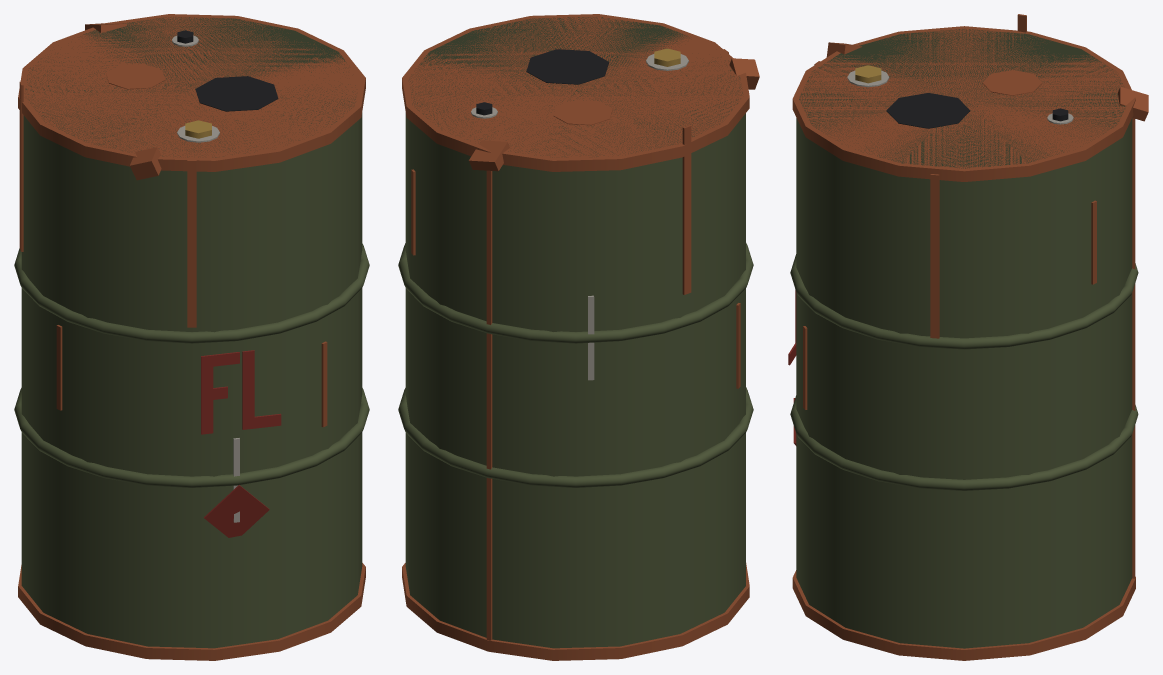
The model's file is 55-gallon-steel-fuel.glb.
The picture shows the model from 3 angles, left to right: view 1: azimuth 30°, elevation 25°; view 2: azimuth 150°, elevation 25°; view 3: azimuth 270°, elevation 25°; orthographic projection. The views are drawn at different scales.
Visible parts, largest first — view 1: Mesh_Body, Mesh_ChimeTop, Mesh_LidTop, Mesh_ChimeBottom, Mesh_Rib1, Mesh_Rib2, Mesh_GrimeStain, Mesh_HazardDiamond, Mesh_Streak1, Mesh_RustStain, Mesh_StencilL_Vert, Mesh_StencilF_Vert (+4 smaller); view 2: Mesh_Body, Mesh_ChimeTop, Mesh_LidTop, Mesh_ChimeBottom, Mesh_Rib1, Mesh_Rib2, Mesh_WeldedSeam, Mesh_GrimeStain, Mesh_Streak2, Mesh_RustStain, Mesh_RimDent2, Mesh_RimDent1 (+1 smaller); view 3: Mesh_Body, Mesh_ChimeTop, Mesh_LidTop, Mesh_ChimeBottom, Mesh_Rib1, Mesh_Rib2, Mesh_GrimeStain, Mesh_WeldedSeam, Mesh_Streak4, Mesh_RustStain, Mesh_RimDent2.
Part boxes in pixels (x1=…): Mesh_Body: x1=21, y1=113, x2=362, y2=648; Mesh_ChimeTop: x1=18, y1=14, x2=365, y2=171; Mesh_LidTop: x1=25, y1=17, x2=355, y2=157; Mesh_ChimeBottom: x1=18, y1=563, x2=365, y2=660; Mesh_Rib1: x1=14, y1=388, x2=369, y2=487; Mesh_Rib2: x1=14, y1=243, x2=369, y2=343; Mesh_GrimeStain: x1=195, y1=76, x2=278, y2=111; Mesh_HazardDiamond: x1=204, y1=485, x2=269, y2=537; Mesh_Streak1: x1=187, y1=160, x2=196, y2=327; Mesh_RustStain: x1=106, y1=64, x2=164, y2=89; Mesh_StencilL_Vert: x1=242, y1=350, x2=254, y2=429; Mesh_StencilF_Vert: x1=201, y1=355, x2=213, y2=434; Mesh_Body: x1=405, y1=113, x2=745, y2=648; Mesh_ChimeTop: x1=402, y1=14, x2=749, y2=171; Mesh_LidTop: x1=409, y1=17, x2=742, y2=157; Mesh_ChimeBottom: x1=402, y1=563, x2=749, y2=660; Mesh_Rib1: x1=398, y1=387, x2=753, y2=487; Mesh_Rib2: x1=398, y1=243, x2=753, y2=343; Mesh_WeldedSeam: x1=486, y1=170, x2=492, y2=640; Mesh_GrimeStain: x1=526, y1=49, x2=609, y2=84; Mesh_Streak2: x1=682, y1=125, x2=691, y2=294; Mesh_RustStain: x1=553, y1=100, x2=612, y2=125; Mesh_RimDent2: x1=468, y1=140, x2=509, y2=171; Mesh_RimDent1: x1=729, y1=58, x2=759, y2=89; Mesh_Body: x1=796, y1=118, x2=1132, y2=648; Mesh_ChimeTop: x1=792, y1=26, x2=1135, y2=181; Mesh_LidTop: x1=799, y1=29, x2=1125, y2=168; Mesh_ChimeBottom: x1=792, y1=570, x2=1135, y2=660; Mesh_Rib1: x1=790, y1=395, x2=1138, y2=490; Mesh_Rib2: x1=790, y1=254, x2=1138, y2=349; Mesh_GrimeStain: x1=886, y1=93, x2=970, y2=128; Mesh_WeldedSeam: x1=1132, y1=118, x2=1135, y2=578; Mesh_Streak4: x1=930, y1=174, x2=939, y2=338; Mesh_RustStain: x1=982, y1=70, x2=1042, y2=95; Mesh_RimDent2: x1=1118, y1=86, x2=1148, y2=121.
Size of the model in its own units: 0.58 by 0.93 by 0.6002.
1 material, 1 textured.
